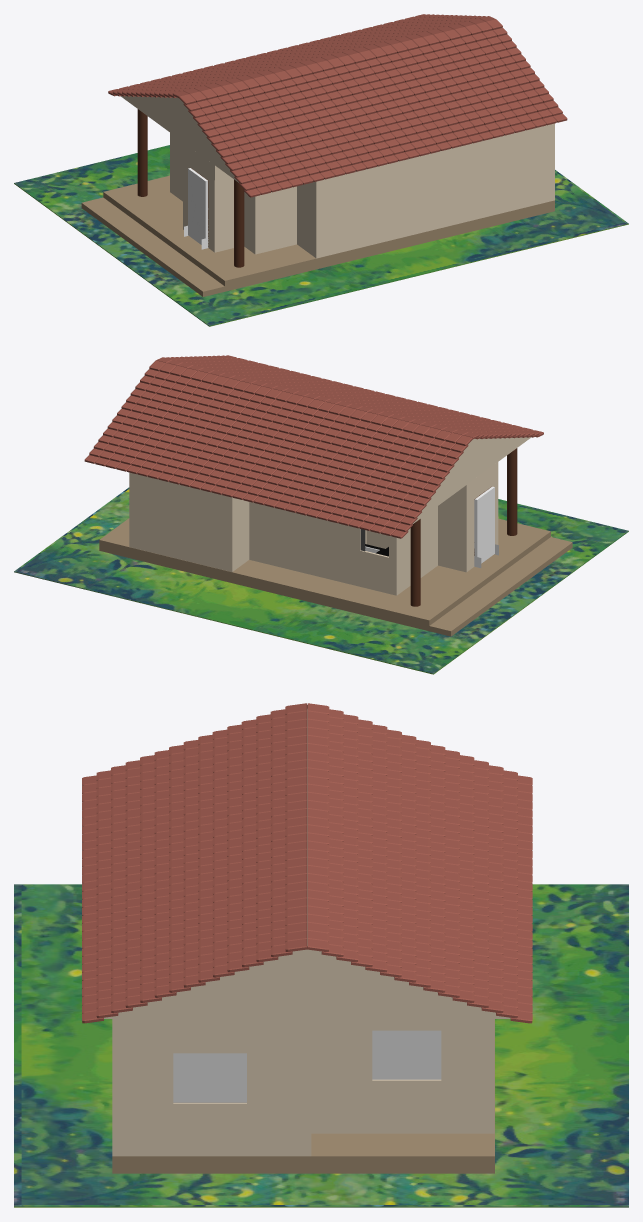
Rendered from Casa.fbx.
The picture shows the model from 3 angles, top to bottom: view 1: azimuth 30°, elevation 25°; view 2: azimuth 150°, elevation 25°; view 3: azimuth 270°, elevation 25°; orthographic projection. The views are drawn at different scales.
Parts seen in each view (by area): view 1: telhado, Base + Parede, Cube.011, Cube.012, telhado.001, Cube.013, CTRL_Hole, Cylinder.001, Cylinder.002; view 2: telhado.001, Cube.011, Base + Parede, Cube.012, telhado, Cube.013, CTRL_Hole, Cylinder.002, Cylinder.001; view 3: Cube.011, telhado.001, telhado, Base + Parede, Cube.013, Cube.012, Vidro.002, Vidro.001.
Part boxes in pixels (x1=…): telhado: x1=179, y1=19, x2=567, y2=197; Base + Parede: x1=170, y1=123, x2=554, y2=258; Cube.011: x1=14, y1=145, x2=628, y2=326; Cube.012: x1=81, y1=175, x2=554, y2=296; telhado.001: x1=108, y1=14, x2=495, y2=97; Cube.013: x1=120, y1=96, x2=238, y2=182; CTRL_Hole: x1=188, y1=168, x2=208, y2=247; Cylinder.001: x1=137, y1=109, x2=147, y2=196; Cylinder.002: x1=234, y1=179, x2=244, y2=267; telhado.001: x1=84, y1=360, x2=472, y2=538; Cube.011: x1=14, y1=487, x2=628, y2=674; Base + Parede: x1=129, y1=462, x2=498, y2=595; Cube.012: x1=99, y1=518, x2=572, y2=636; telhado: x1=156, y1=355, x2=543, y2=439; Cube.013: x1=413, y1=437, x2=530, y2=523; CTRL_Hole: x1=474, y1=486, x2=494, y2=563; Cylinder.002: x1=507, y1=448, x2=517, y2=535; Cylinder.001: x1=410, y1=519, x2=420, y2=606; Cube.011: x1=14, y1=884, x2=628, y2=1207; telhado.001: x1=307, y1=703, x2=532, y2=1023; telhado: x1=82, y1=703, x2=307, y2=1023; Base + Parede: x1=112, y1=1019, x2=494, y2=1156; Cube.013: x1=104, y1=709, x2=510, y2=1018; Cube.012: x1=112, y1=1019, x2=494, y2=1173; Vidro.002: x1=173, y1=1053, x2=246, y2=1102; Vidro.001: x1=372, y1=1030, x2=441, y2=1079.
Bounding box in the file's own units: 2845 × 952 × 2295.
19 materials, 1 textured.
